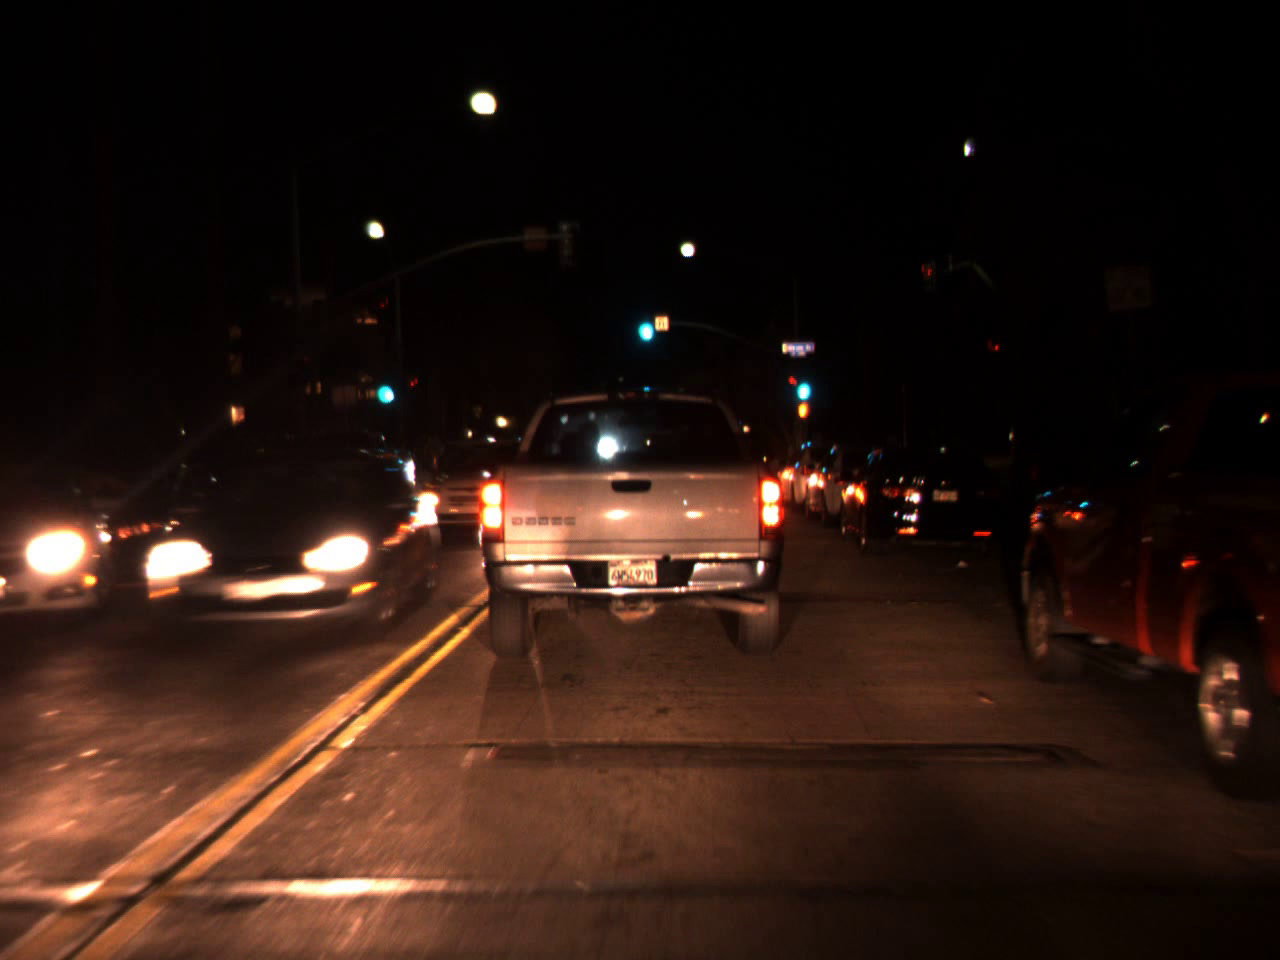go: (633, 301, 656, 348), (373, 364, 392, 409), (792, 368, 813, 404)
